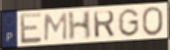E: (19, 11, 44, 46)
G: (117, 7, 141, 38)
H: (68, 9, 93, 42)
M: (43, 11, 69, 42)
O: (141, 6, 164, 37)
R: (92, 10, 116, 40)
